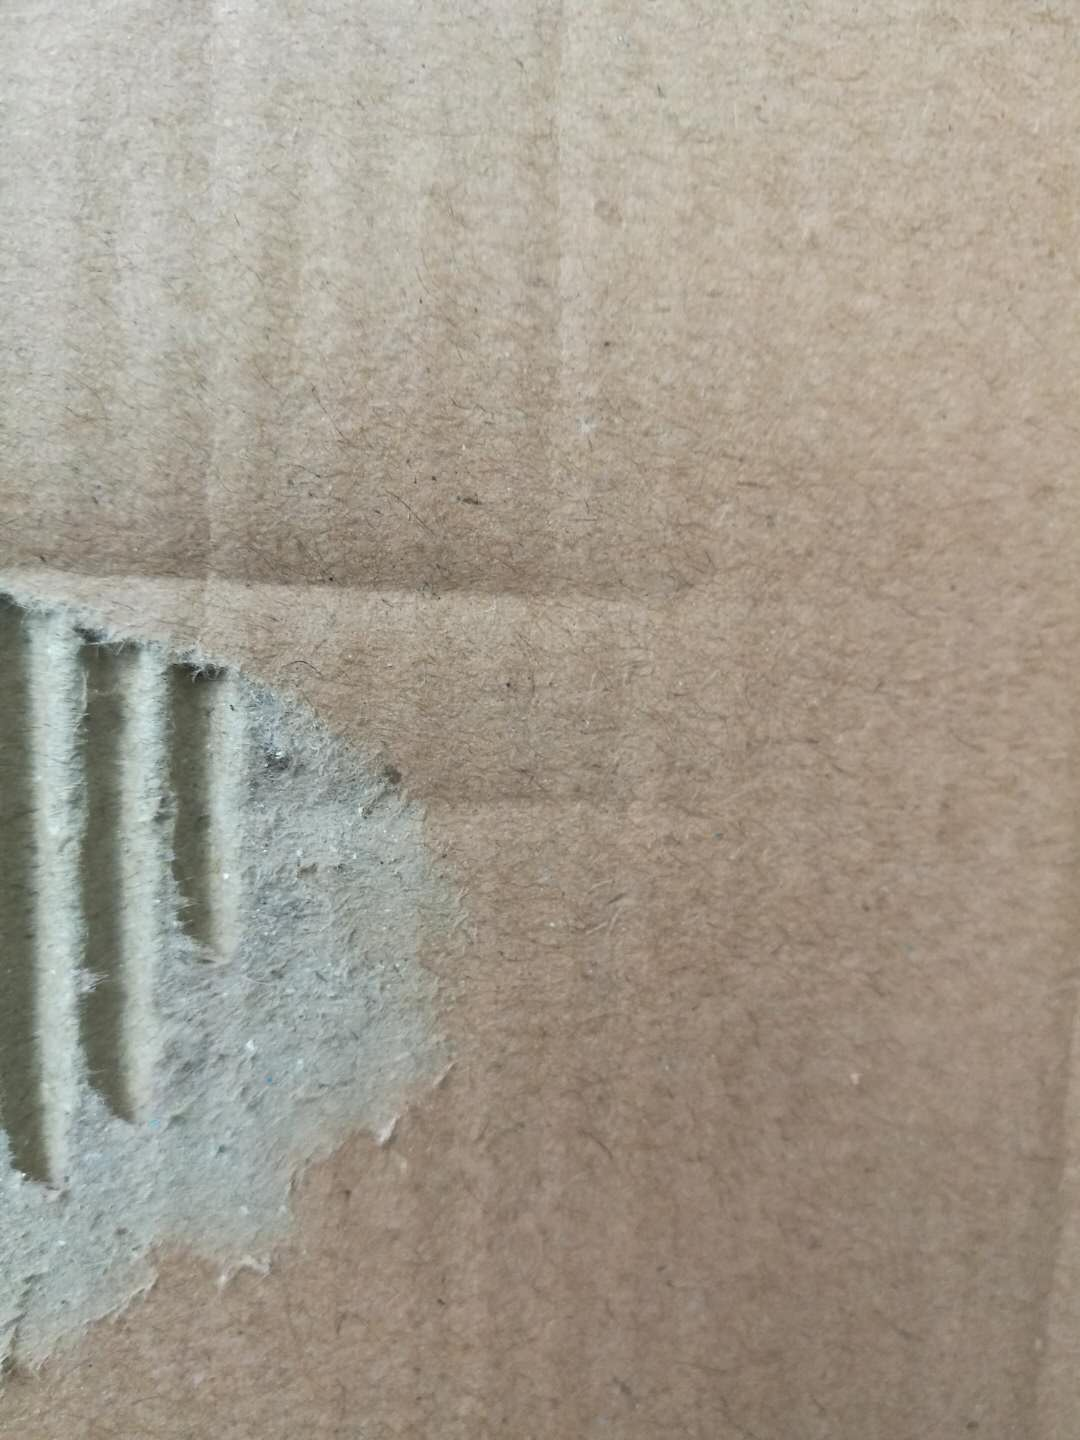defect: (1, 507, 694, 1390)
